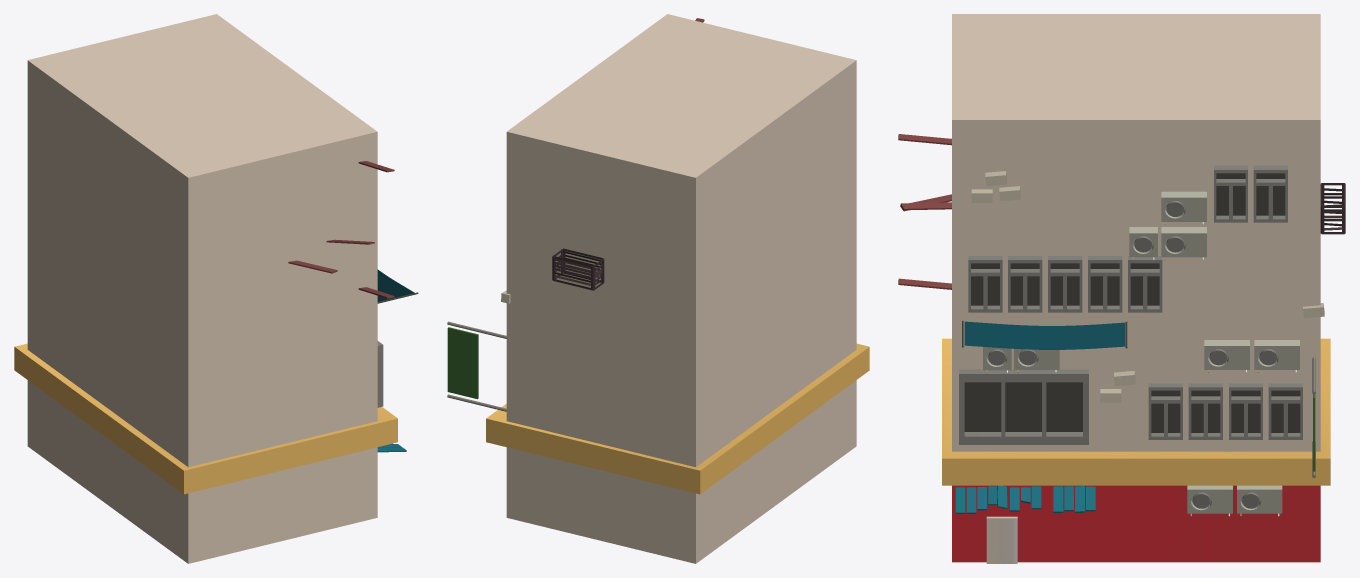
The model's file is Building_07.fbx.
3 views of the same model, side by side, from view 1: azimuth 30°, elevation 25°; view 2: azimuth 150°, elevation 25°; view 3: azimuth 270°, elevation 25° (orthographic). The views are drawn at different scales.
Parts seen in each view (by area): view 1: building, gap_filler; view 2: building; view 3: building, shingles, gap_filler.
Part boxes in pixels (x1,y1,x2,y2): building: [14, 14, 418, 563]; gap_filler: [288, 161, 394, 298]; building: [447, 14, 869, 563]; building: [942, 14, 1345, 563]; shingles: [955, 485, 1095, 513]; gap_filler: [898, 134, 951, 289].
Size of the model in its own units: 1413 by 2009 by 1842.
